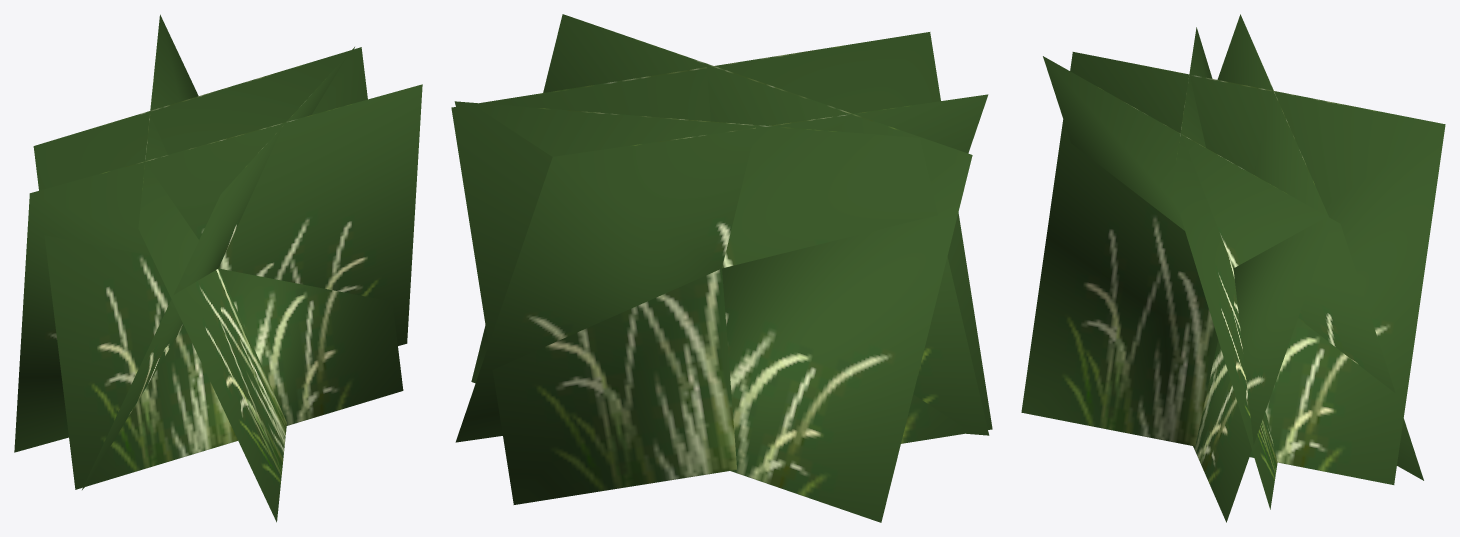
File: grass-tuft-1.glb
3 renders of one model, left to right at view 1: azimuth 30°, elevation 25°; view 2: azimuth 150°, elevation 25°; view 3: azimuth 270°, elevation 25°, orthographic. The views are drawn at different scales.
Parts seen in each view (by area): view 1: grass-tuft-1; view 2: grass-tuft-1; view 3: grass-tuft-1.
Boxes of the visible parts, left/top/right/bottom form: grass-tuft-1: left=14, top=14, right=422, bottom=522; grass-tuft-1: left=451, top=14, right=992, bottom=522; grass-tuft-1: left=1021, top=14, right=1445, bottom=522.
Size of the model in its own units: 0.5915 by 0.4533 by 0.5211.
1 material, 1 textured.
